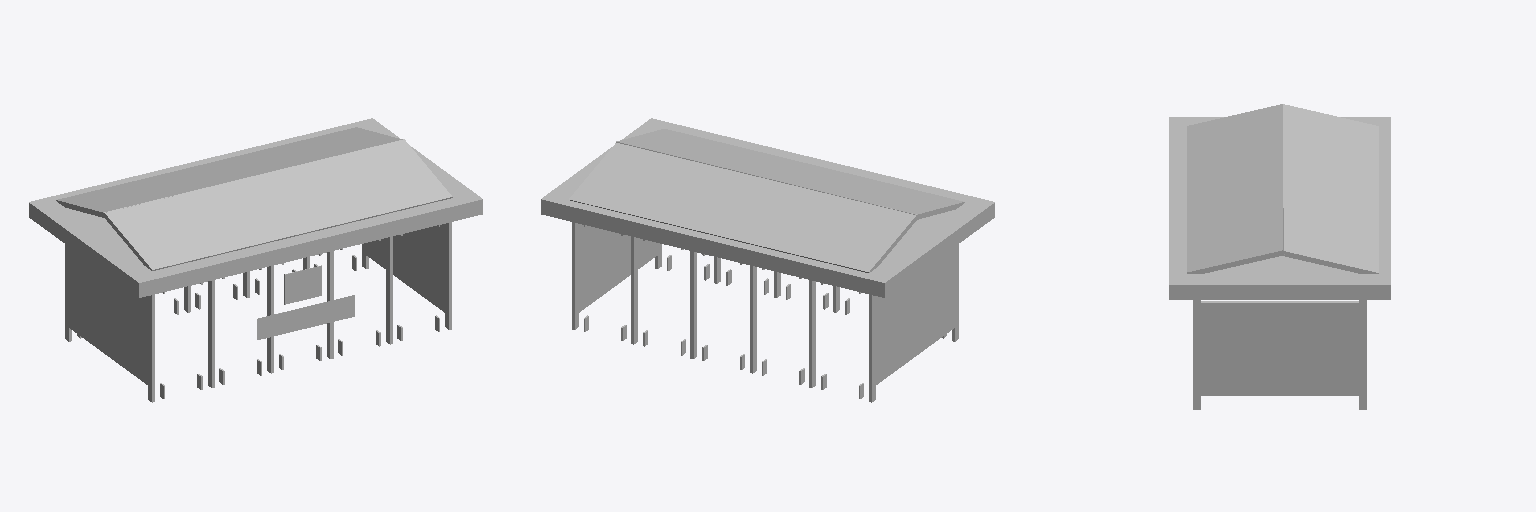
Rendered from tang2.obj.
The picture shows the model from 3 angles: view 1: azimuth 30°, elevation 25°; view 2: azimuth 150°, elevation 25°; view 3: azimuth 270°, elevation 25°; orthographic projection.
Visible parts, largest first — view 1: obj65, obj32, obj66, obj33, obj34, obj67, obj31, obj7, obj4, obj9, obj2, obj1; view 2: obj66, obj32, obj65, obj33, obj34, obj36, obj41, obj38, obj35, obj40, obj43; view 3: obj34, obj65, obj66, obj32, obj40, obj6.
Boxes of the visible parts, x1,y1,x2,y2 form: obj65: [104, 139, 452, 270]; obj32: [29, 118, 482, 297]; obj66: [56, 127, 402, 217]; obj33: [68, 246, 150, 386]; obj34: [366, 223, 448, 315]; obj67: [257, 295, 354, 339]; obj31: [284, 265, 321, 304]; obj7: [208, 280, 214, 387]; obj4: [386, 236, 392, 344]; obj9: [148, 295, 154, 402]; obj2: [327, 251, 333, 358]; obj1: [267, 266, 273, 373]; obj66: [569, 143, 917, 272]; obj32: [541, 118, 994, 297]; obj65: [616, 129, 964, 219]; obj33: [875, 247, 954, 385]; obj34: [578, 224, 660, 312]; obj36: [690, 251, 696, 358]; obj41: [809, 280, 815, 387]; obj38: [631, 236, 637, 344]; obj35: [750, 266, 756, 373]; obj40: [572, 222, 578, 329]; obj43: [869, 295, 875, 402]; obj34: [1195, 301, 1360, 395]; obj65: [1187, 104, 1284, 273]; obj66: [1283, 104, 1378, 273]; obj32: [1169, 117, 1390, 299]; obj40: [1359, 300, 1366, 409]; obj6: [1193, 300, 1200, 409].
Size of the model in its own units: 248 by 109 by 138.